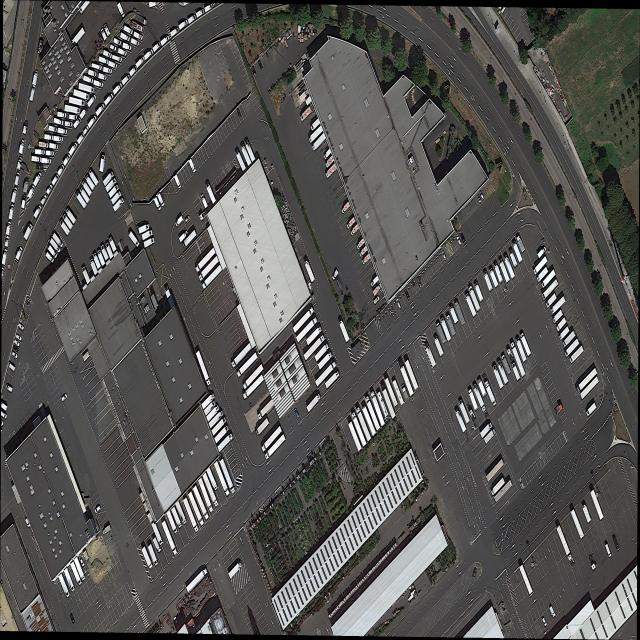large-vehicle: (303, 333, 326, 361), (219, 458, 236, 494), (202, 472, 219, 508), (296, 316, 318, 343), (186, 567, 208, 594), (264, 434, 286, 461), (242, 363, 264, 390), (315, 360, 337, 387), (196, 350, 212, 387), (198, 477, 214, 514), (510, 342, 526, 378), (214, 461, 230, 497), (351, 411, 367, 447), (398, 360, 414, 396), (193, 485, 209, 521), (162, 520, 178, 556), (183, 497, 199, 533), (188, 491, 204, 527), (236, 352, 258, 378), (293, 307, 314, 334), (195, 247, 216, 274), (261, 426, 282, 453), (576, 367, 597, 394), (381, 383, 396, 420), (198, 256, 219, 282), (231, 343, 252, 369), (243, 374, 264, 400), (370, 391, 385, 427), (356, 406, 371, 442), (365, 395, 380, 431), (202, 264, 222, 290), (542, 279, 559, 301), (217, 432, 234, 453), (257, 399, 274, 420), (306, 324, 322, 346), (151, 520, 164, 546), (58, 573, 71, 598), (377, 391, 389, 418), (314, 342, 330, 362), (214, 424, 230, 444), (211, 416, 227, 436), (564, 338, 580, 358), (492, 364, 504, 390), (465, 292, 477, 318), (468, 286, 480, 312), (392, 380, 404, 406), (64, 567, 76, 593), (70, 561, 82, 587), (74, 556, 86, 582), (458, 399, 470, 425), (472, 384, 485, 408), (550, 296, 566, 315), (338, 318, 350, 343), (497, 360, 509, 385), (209, 409, 224, 429), (318, 350, 333, 370), (454, 301, 466, 326), (533, 256, 548, 276), (440, 317, 452, 342), (541, 269, 556, 289), (325, 369, 340, 389), (306, 393, 321, 413), (424, 343, 436, 368), (166, 510, 178, 535), (491, 477, 506, 497), (455, 408, 467, 433), (244, 139, 256, 163), (147, 543, 159, 567), (175, 501, 187, 525), (516, 337, 527, 363), (308, 125, 323, 144), (182, 230, 197, 249), (228, 560, 243, 579), (255, 418, 270, 437), (569, 345, 584, 364), (171, 506, 183, 529), (520, 332, 531, 357), (499, 258, 510, 283), (504, 255, 515, 280), (142, 546, 153, 571), (312, 133, 326, 152), (304, 259, 315, 283), (240, 144, 252, 166), (207, 467, 218, 491), (205, 182, 216, 205), (235, 149, 246, 172), (512, 241, 523, 264), (206, 404, 220, 422), (201, 392, 215, 410), (433, 335, 444, 357), (486, 385, 497, 407), (480, 421, 493, 439), (563, 330, 576, 348), (75, 191, 87, 210), (536, 266, 549, 283), (164, 286, 174, 308), (446, 314, 456, 336), (436, 322, 446, 344), (468, 389, 478, 411), (582, 503, 592, 524), (501, 354, 511, 375), (474, 282, 484, 303), (483, 271, 493, 292), (489, 268, 499, 289), (204, 400, 217, 416), (65, 208, 77, 225), (79, 186, 90, 204), (82, 180, 93, 198), (59, 219, 70, 237), (62, 213, 73, 231), (105, 177, 117, 193), (52, 232, 64, 248), (325, 163, 337, 179), (300, 106, 312, 122), (484, 428, 496, 444), (81, 266, 91, 285), (511, 362, 521, 381), (449, 305, 459, 324), (477, 378, 487, 397), (494, 262, 503, 283), (88, 169, 99, 186), (103, 170, 114, 187), (78, 83, 95, 94), (73, 89, 90, 100), (129, 231, 140, 248), (113, 197, 125, 212), (23, 223, 33, 241), (108, 183, 119, 199), (50, 238, 61, 254), (546, 293, 557, 309), (556, 317, 567, 333), (559, 326, 570, 342), (85, 174, 95, 191), (64, 104, 81, 114), (131, 20, 144, 33), (111, 190, 122, 205), (552, 309, 563, 324), (586, 402, 597, 417), (509, 249, 518, 267), (516, 235, 525, 253), (79, 1, 90, 15), (100, 244, 109, 261), (105, 242, 114, 259), (69, 97, 86, 106), (90, 258, 98, 276), (97, 249, 105, 267), (135, 14, 147, 26), (33, 171, 42, 187), (48, 245, 58, 259), (95, 103, 105, 117), (310, 118, 320, 132), (87, 115, 97, 129), (87, 94, 97, 108), (93, 252, 101, 269), (108, 237, 117, 252), (27, 184, 36, 199), (69, 142, 78, 157), (99, 154, 106, 173), (138, 223, 150, 234), (142, 229, 153, 241), (143, 237, 155, 248), (537, 246, 547, 259), (174, 174, 182, 190), (117, 2, 125, 18), (401, 384, 409, 400), (153, 537, 161, 553), (33, 205, 42, 219), (188, 158, 196, 173), (15, 246, 23, 261), (29, 85, 36, 102), (113, 82, 122, 95), (347, 216, 356, 229), (325, 156, 334, 169), (341, 201, 350, 214), (362, 253, 371, 266), (179, 230, 188, 243), (104, 93, 113, 106), (373, 283, 382, 296), (157, 193, 165, 207), (154, 197, 162, 211), (201, 193, 208, 209), (11, 187, 18, 203), (63, 153, 71, 167), (32, 70, 39, 86), (160, 35, 170, 46), (178, 19, 188, 30), (121, 74, 130, 86), (136, 56, 145, 68), (144, 49, 153, 61), (350, 224, 359, 236), (356, 238, 365, 250), (359, 246, 368, 258), (73, 117, 82, 129), (175, 215, 183, 228), (77, 132, 85, 145), (2, 248, 8, 265), (123, 25, 133, 35), (120, 32, 130, 42), (133, 31, 143, 41), (45, 252, 54, 263), (102, 524, 111, 535), (104, 23, 111, 37), (129, 65, 137, 77), (323, 148, 331, 160), (19, 139, 25, 155), (51, 174, 59, 186), (57, 164, 65, 176), (79, 108, 87, 120), (371, 276, 379, 288), (170, 27, 179, 37), (196, 8, 205, 18), (112, 54, 122, 63), (122, 42, 132, 51), (98, 56, 108, 65), (83, 75, 93, 84), (17, 156, 23, 171), (23, 178, 29, 193), (21, 194, 27, 209), (153, 42, 161, 53), (53, 118, 64, 126), (14, 172, 20, 186), (46, 184, 53, 196), (130, 38, 139, 47), (103, 50, 112, 59), (108, 60, 117, 69), (188, 14, 196, 24), (205, 3, 213, 13), (9, 204, 14, 220), (93, 80, 103, 88), (101, 28, 107, 41), (91, 63, 102, 70), (23, 120, 28, 135), (6, 221, 11, 236), (113, 37, 121, 46), (118, 48, 127, 56), (98, 73, 107, 81), (88, 69, 97, 77), (48, 125, 57, 133), (41, 194, 47, 205), (103, 67, 112, 74), (57, 111, 66, 118), (39, 141, 48, 148), (31, 156, 41, 162), (35, 149, 45, 155), (41, 158, 51, 164), (57, 128, 67, 134), (53, 136, 63, 142), (44, 134, 53, 140), (49, 143, 58, 149), (46, 150, 54, 156), (65, 121, 73, 127), (69, 114, 77, 120), (5, 236, 9, 247), (2, 267, 4, 283)
small-vehicle: (605, 542, 612, 557), (613, 536, 620, 551), (8, 360, 16, 373), (549, 604, 556, 618), (461, 232, 467, 246), (332, 269, 339, 281), (396, 297, 402, 310), (98, 30, 104, 43), (373, 294, 380, 305), (456, 234, 462, 246), (416, 276, 422, 288), (472, 568, 478, 580), (251, 65, 257, 77), (294, 407, 300, 419), (6, 383, 13, 393), (13, 344, 20, 354), (441, 250, 447, 261), (404, 289, 410, 300), (11, 350, 18, 359), (94, 505, 101, 514), (184, 214, 191, 223), (258, 59, 263, 71), (80, 556, 85, 568), (70, 612, 75, 624), (542, 616, 547, 627), (236, 108, 241, 119), (14, 338, 20, 347), (61, 393, 67, 402), (477, 194, 482, 204), (479, 190, 484, 200), (18, 322, 24, 330), (16, 333, 22, 341), (110, 44, 116, 51)
